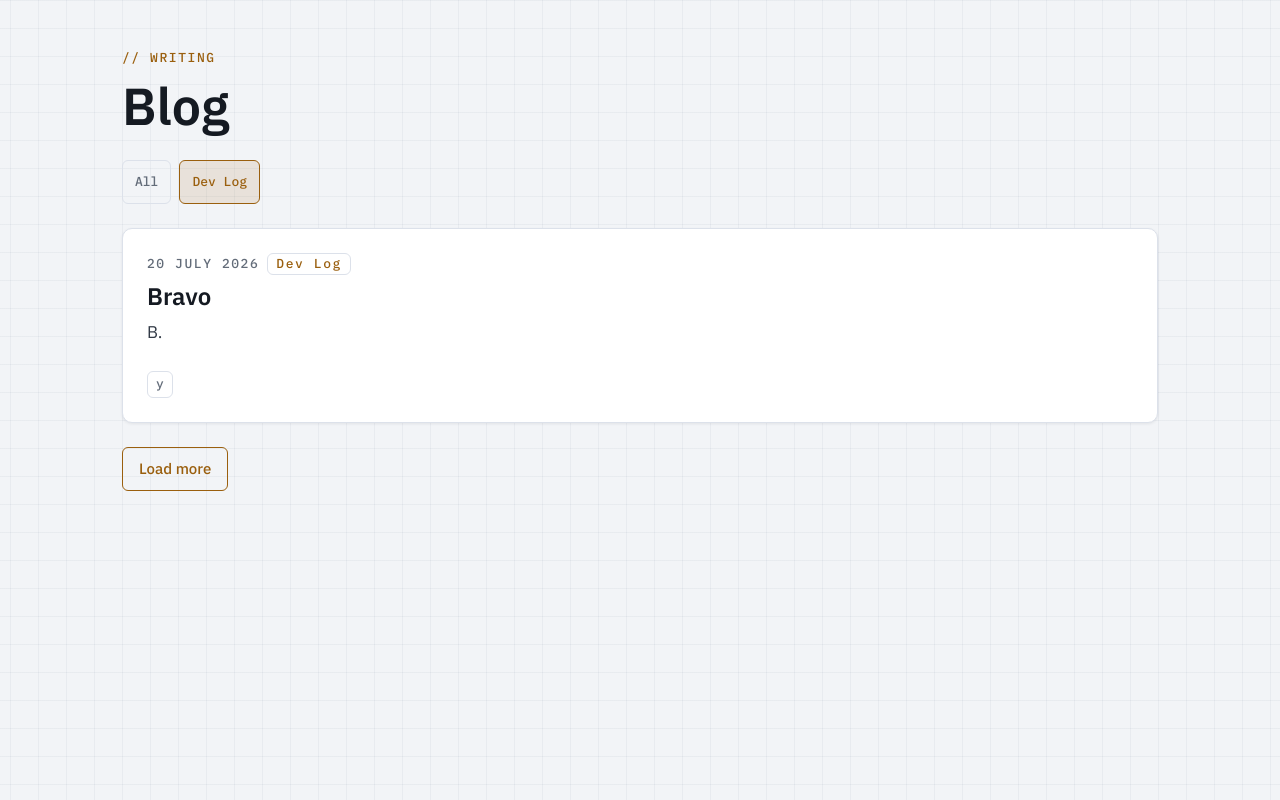
Test: BlogIndexPage (spec §3.5, §4.1) › reads ?blog= from the URL on load and carries it through pagination
Expected: the heading "Bravo" is shown, [147,280,211,312]
Click the button "Load more".
click(175, 469)  # box [122,447,228,491]
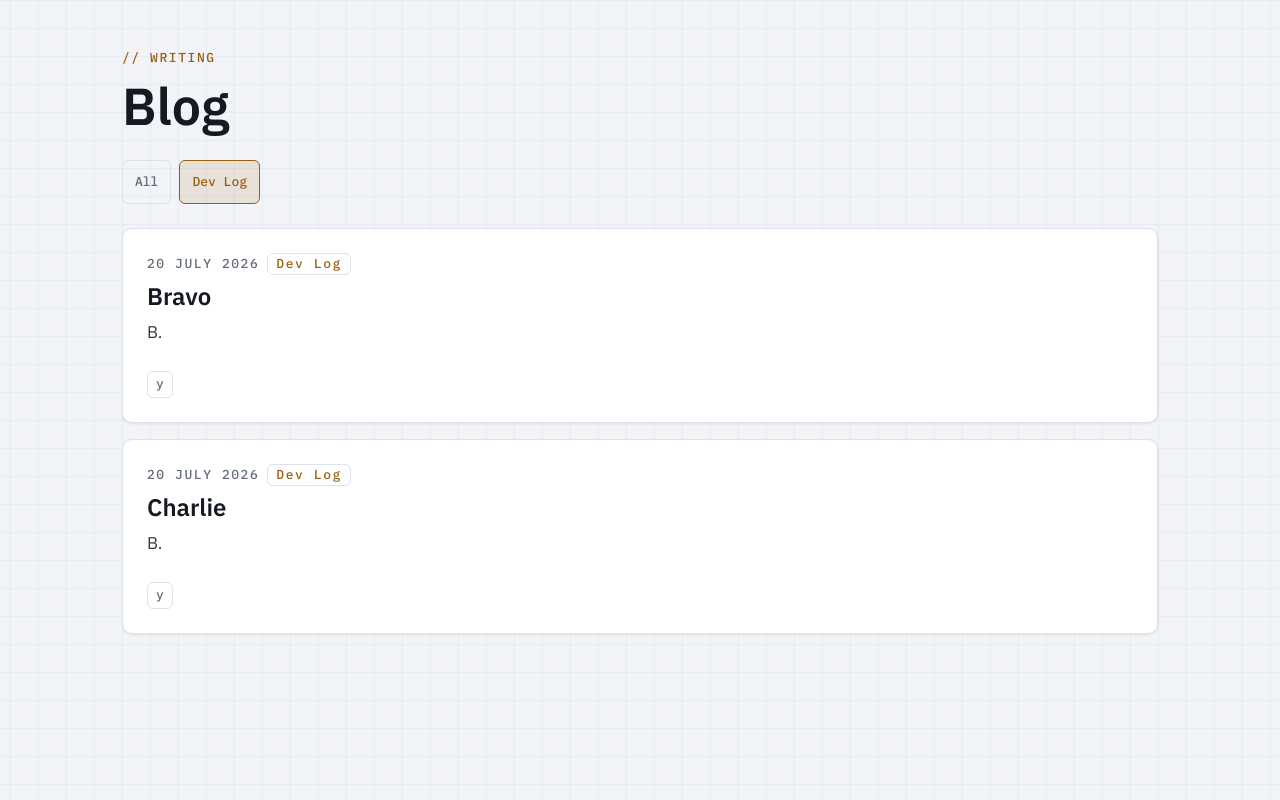
Now the heading "Charlie" is shown, box [147,491,226,523]
